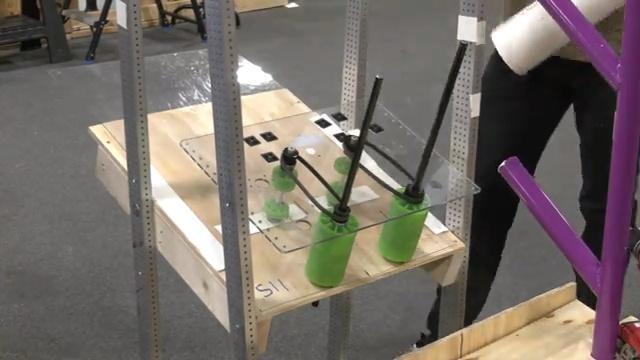CORAL: (489, 0, 625, 76)
